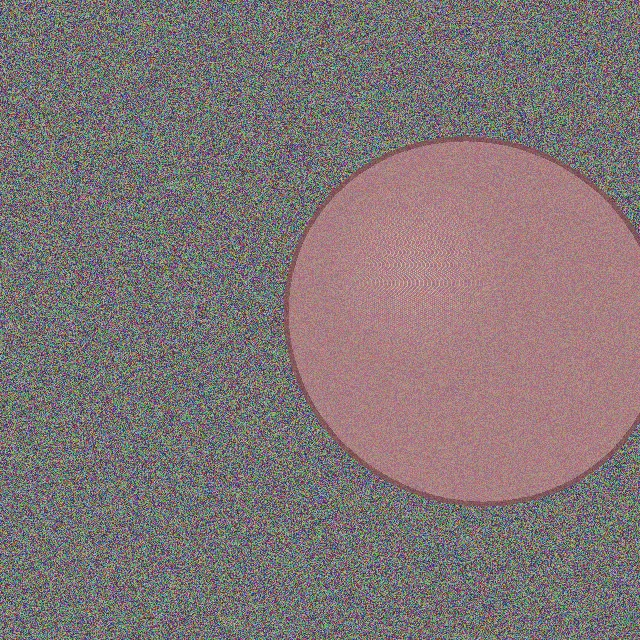lens: (286, 138, 640, 504)
